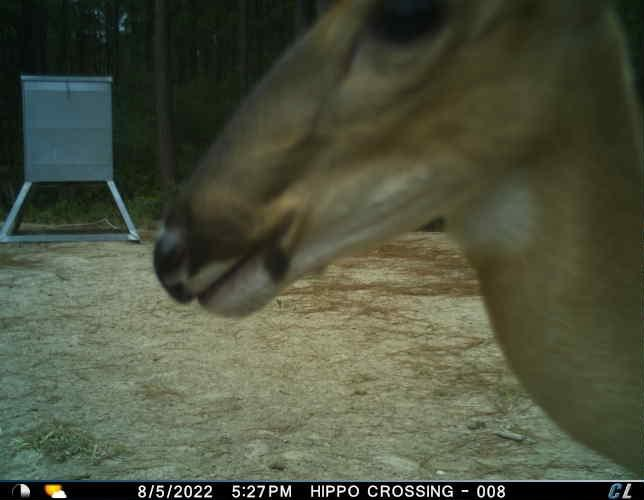Deer: (147, 3, 644, 481)
